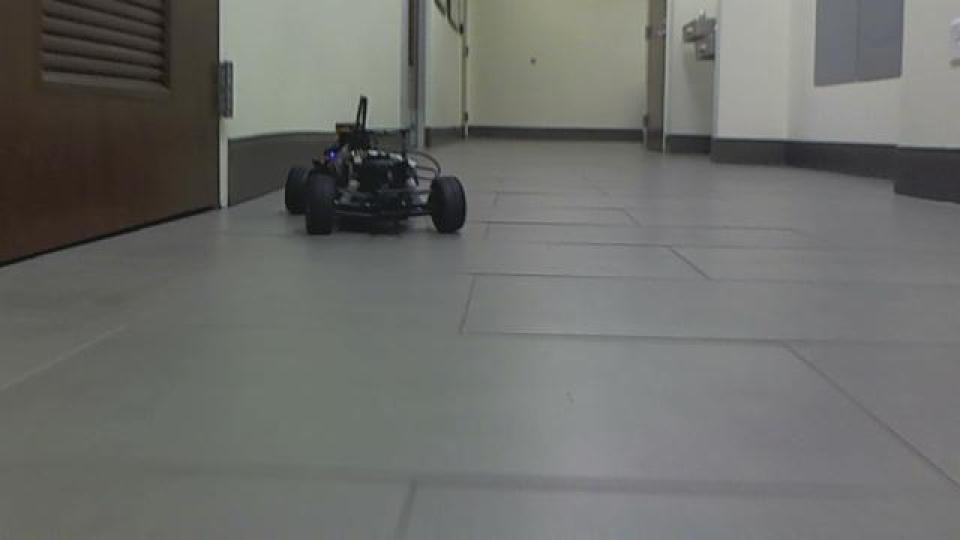car: (280, 93, 470, 239)
